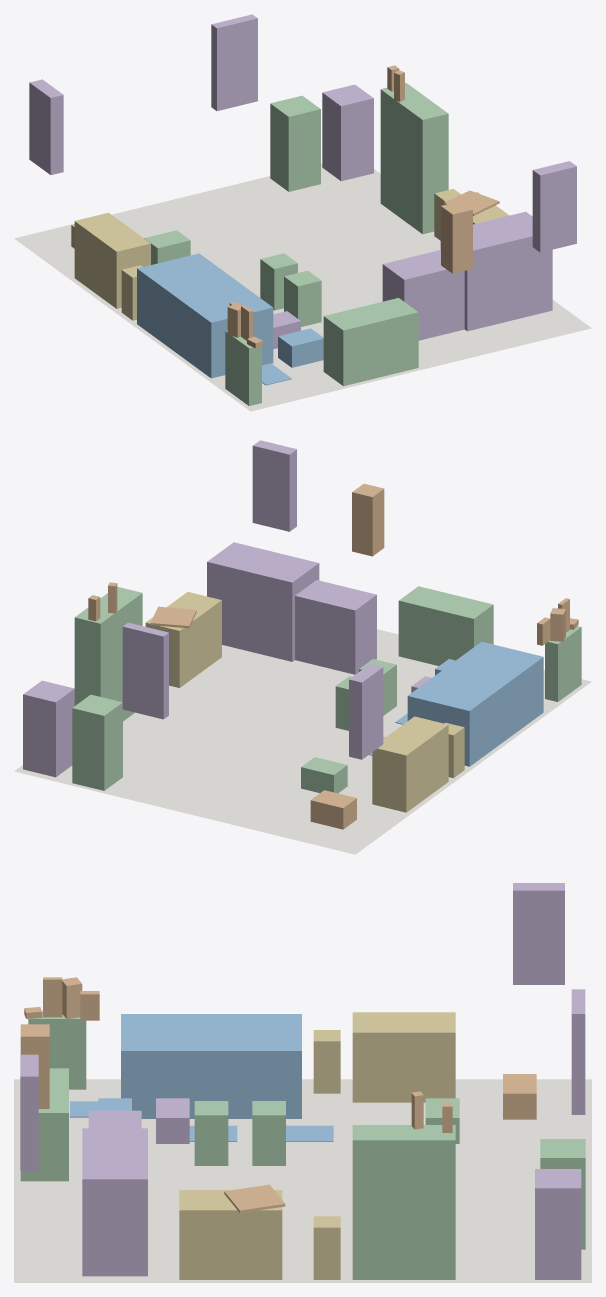
Rendered from layout.glb.
3 views of the same model, one above another, from view 1: azimuth 30°, elevation 25°; view 2: azimuth 150°, elevation 25°; view 3: azimuth 270°, elevation 25° (orthographic). The views are drawn at different scales.
Visible parts, largest first — view 1: room_extent_proxy, obj_0003, obj_0007, obj_0001, obj_0000, obj_0020, obj_0005, obj_0002, obj_0008, obj_0022, obj_0025, obj_0024 (+9 smaller); view 2: room_extent_proxy, obj_0003, obj_0001, obj_0020, obj_0000, obj_0005, obj_0007, obj_0008, obj_0002, obj_0022, obj_0006, obj_0025 (+9 smaller); view 3: room_extent_proxy, obj_0003, obj_0007, obj_0001, obj_0005, obj_0006, obj_0024, obj_0002, obj_0000, obj_0004, obj_0014, obj_0025 (+15 smaller).
Boxes of the visible parts, x1,y1,x2,y2 form: room_extent_proxy: (14,163,591,411); obj_0003: (137,253,273,378); obj_0007: (380,83,448,234); obj_0001: (440,211,552,331); obj_0000: (323,298,418,386); obj_0020: (382,250,464,340); obj_0005: (74,212,150,308); obj_0002: (322,84,373,181); obj_0008: (270,95,320,191); obj_0022: (211,14,257,110); obj_0025: (532,161,576,252); obj_0024: (29,79,63,174); room_extent_proxy: (14,629,591,854); obj_0003: (407,641,543,766); obj_0001: (207,542,319,661); obj_0020: (295,580,376,674); obj_0000: (398,586,493,665); obj_0005: (372,716,448,812); obj_0007: (74,586,142,721); obj_0008: (72,694,122,790); obj_0002: (23,680,74,777); obj_0022: (122,622,168,719); obj_0006: (145,592,221,687); obj_0025: (252,440,296,531); room_extent_proxy: (14,1079,591,1282); obj_0003: (121,1014,301,1118); obj_0007: (352,1125,455,1279); obj_0001: (82,1128,147,1276); obj_0005: (352,1012,455,1102); obj_0006: (179,1190,282,1279); obj_0024: (513,883,564,984); obj_0002: (535,1169,581,1279); obj_0000: (20,1068,68,1181); obj_0004: (28,1011,86,1089); obj_0014: (194,1101,228,1165); obj_0025: (20,1054,38,1170).
Bounding box in the file's own units: 5 × 2.36 × 6.
